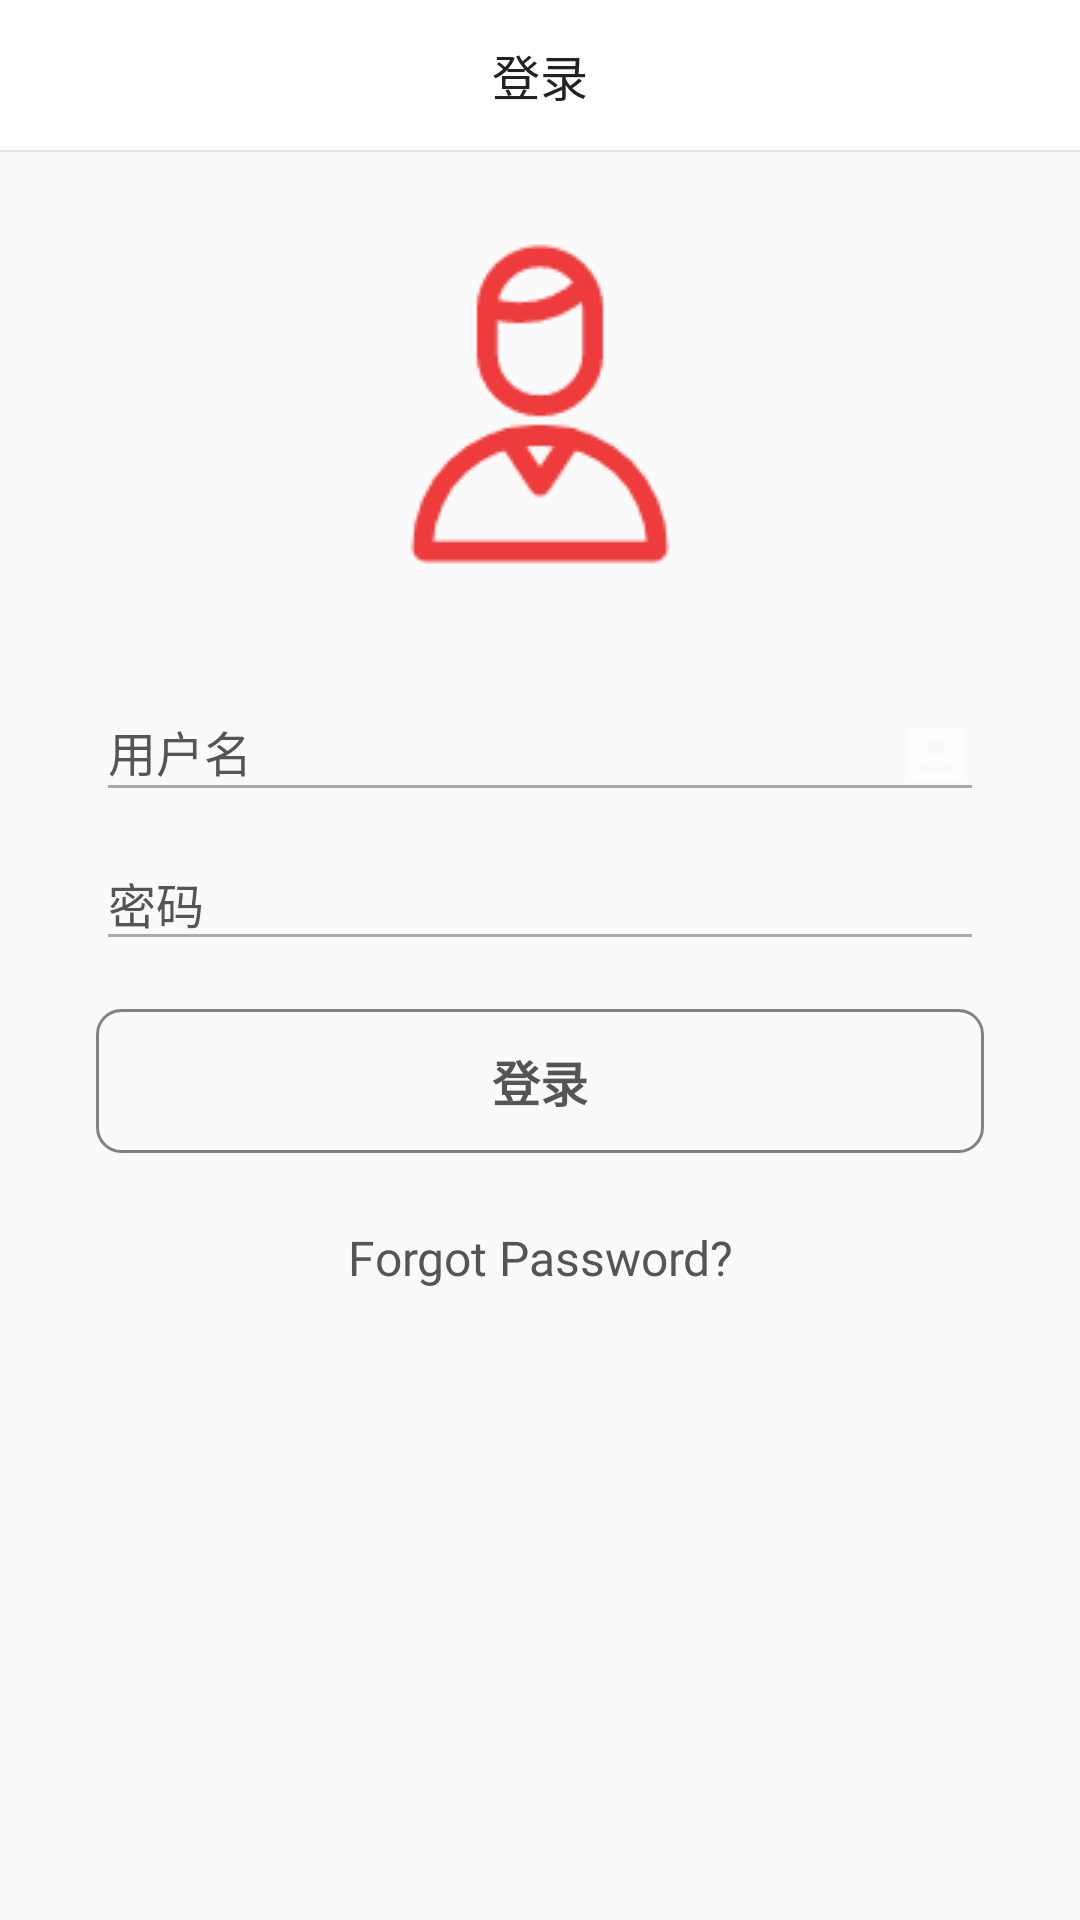

Locate icon controls on the screen. Image size 1080px x 1920px, boxes as (x1=x1, y1=y1, x2=x2, y2=y2).
login user: (x1=410, y1=244, x2=670, y2=564)
